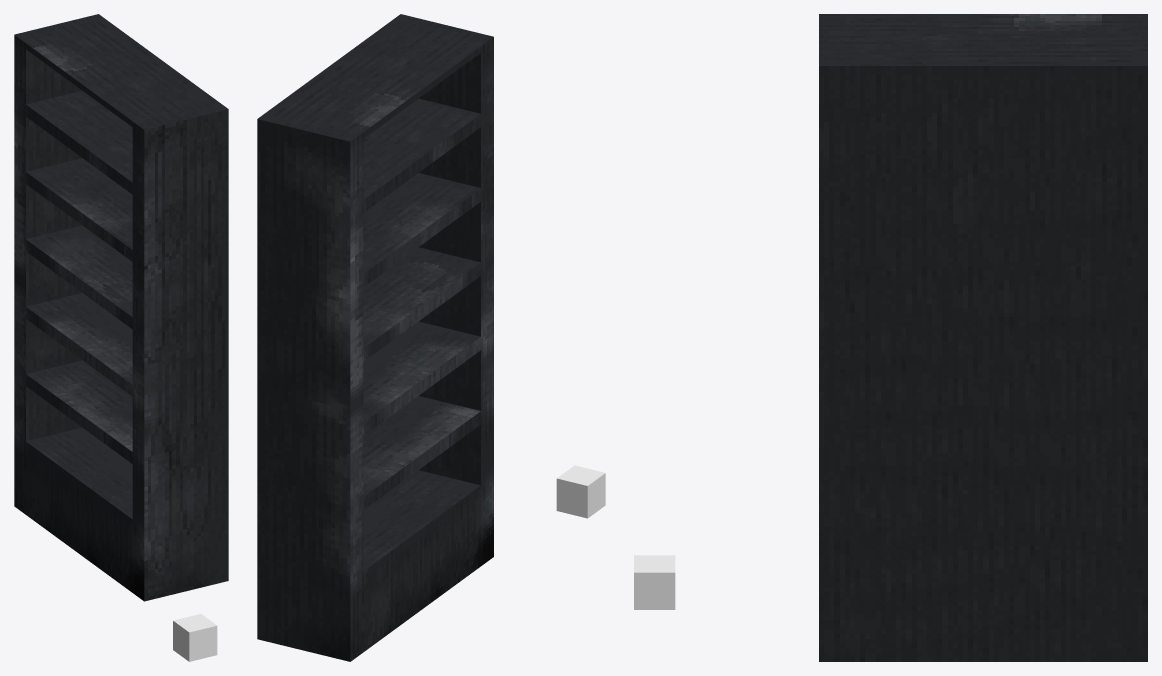
Rendered from shelf-XZCJKF5Y.gltf.
3 renders of one model, left to right at view 1: azimuth 30°, elevation 25°; view 2: azimuth 150°, elevation 25°; view 3: azimuth 270°, elevation 25°, orthographic. The views are drawn at different scales.
Parts seen in each view (by area): view 1: cube (×2); view 2: cube (×2); view 3: cube (×2).
Boxes of the visible parts, box(x1,y1,x2,y2) form: cube (×2): box(14, 14, 228, 661); cube (×2): box(257, 14, 605, 661); cube (×2): box(634, 14, 1147, 661).
Bounding box in the file's own units: 0.5 × 2 × 1.56.
Materials: 2 (1 with a texture image).
